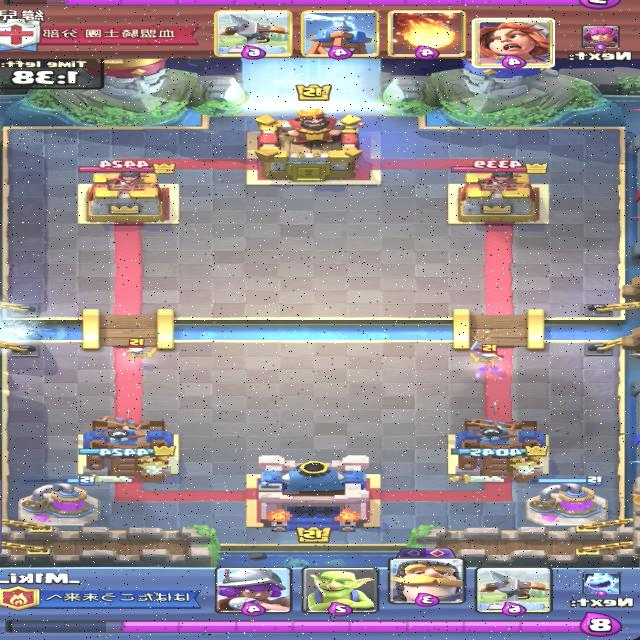Enemy-Skeleton: (466, 342, 505, 370), (119, 338, 157, 365)
Player-ElixirPump: (522, 476, 612, 528), (14, 476, 102, 528)
